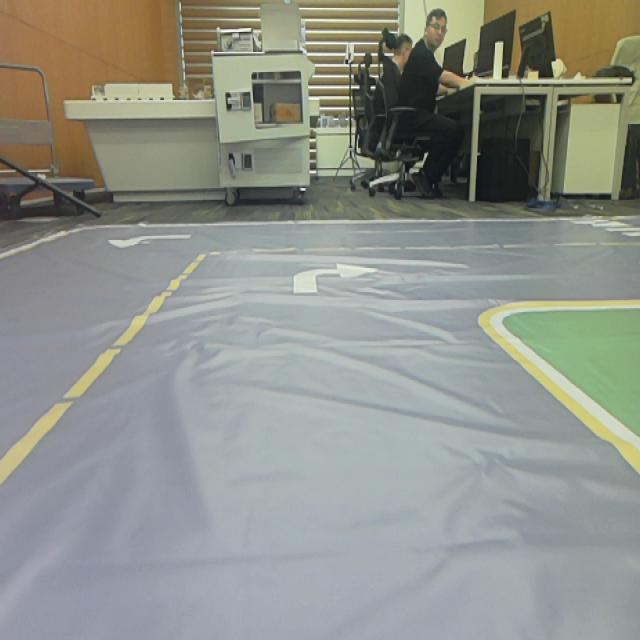left_lane: (0, 251, 205, 486)
right_lane: (476, 322, 640, 475)
